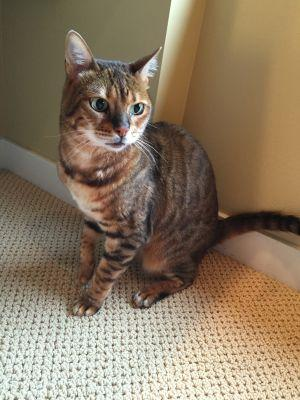bengal: (47, 14, 179, 171)
